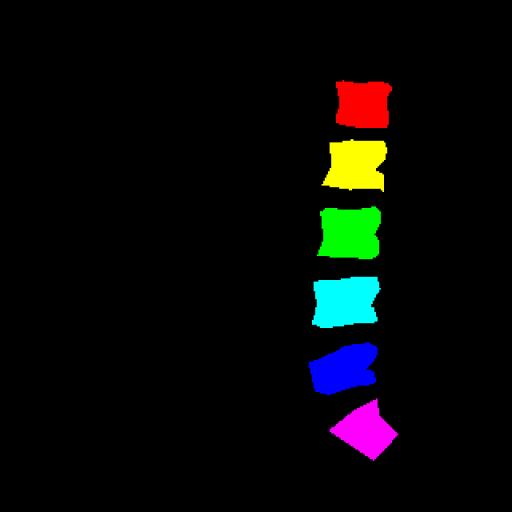L1: (336, 82, 392, 128)
L2: (324, 141, 386, 190)
L3: (318, 208, 379, 258)
L4: (312, 277, 380, 328)
L5: (309, 346, 376, 394)
S1: (330, 399, 398, 460)
